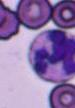N: (27, 29, 75, 83)
